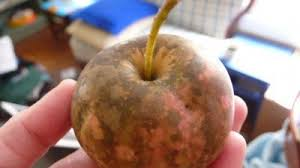damaged_apple: (73, 30, 234, 166)
